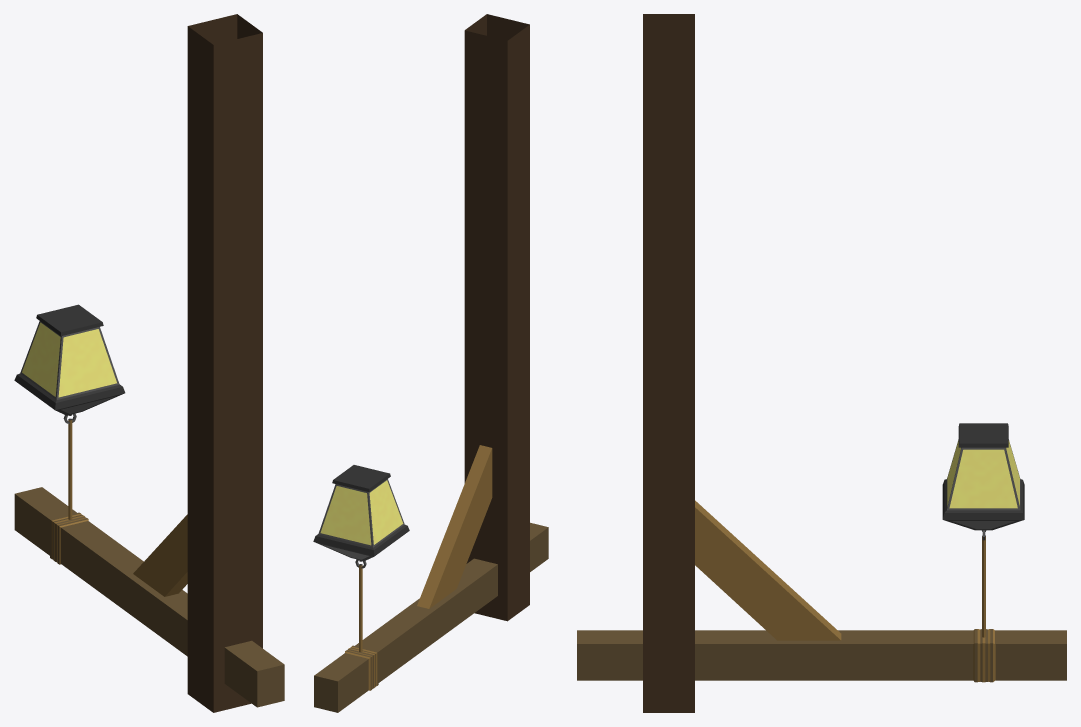
File: sm_lamp_wood_3.fbx
The picture shows the model from 3 angles, left to right: view 1: azimuth 30°, elevation 25°; view 2: azimuth 150°, elevation 25°; view 3: azimuth 270°, elevation 25°; orthographic projection. The views are drawn at different scales.
Parts seen in each view (by area): view 1: sm_lamp_wood_3; view 2: sm_lamp_wood_3; view 3: sm_lamp_wood_3.
Boxes of the visible parts, x1,y1,x2,y2 form: sm_lamp_wood_3: [14, 14, 284, 712]; sm_lamp_wood_3: [313, 14, 548, 712]; sm_lamp_wood_3: [577, 14, 1066, 712].
Bounding box in the file's own units: 20.29 × 184 × 121.
